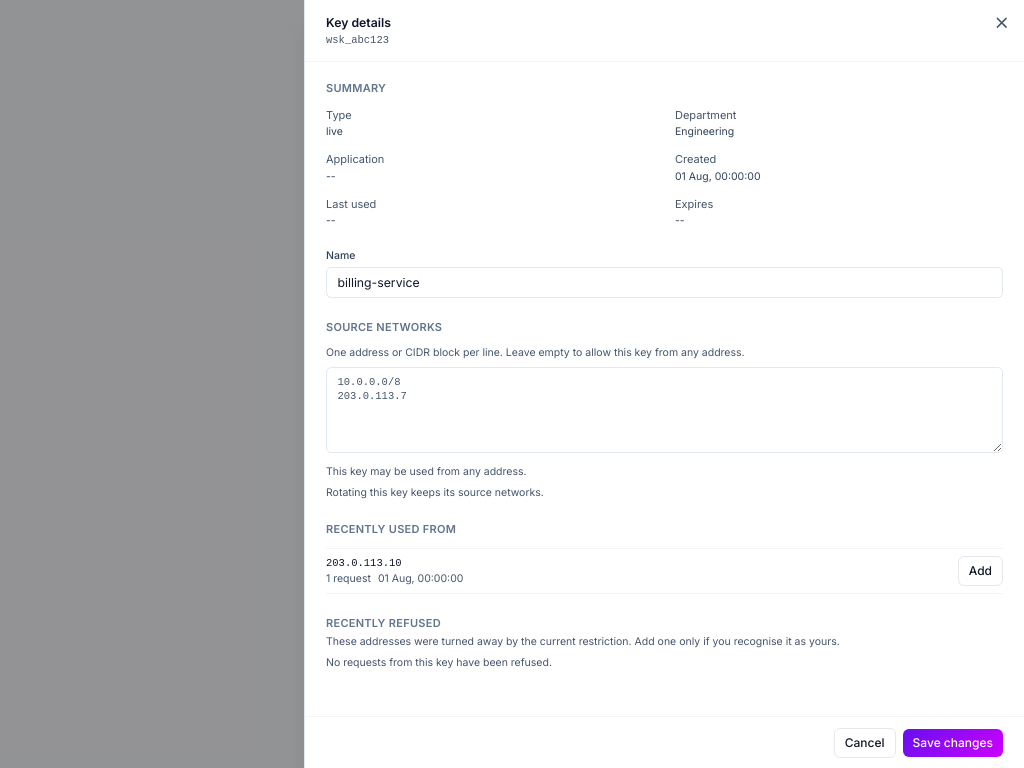
Test: KeyDetailDrawer address panels › adds an observed address as the single address, not the network
The width and height of the screenshot is (1024, 768).
Expected: the text "203.0.113.10" is shown, [326,557,402,569]
Click the button "Add".
click(980, 571)  # box [958,556,1003,586]
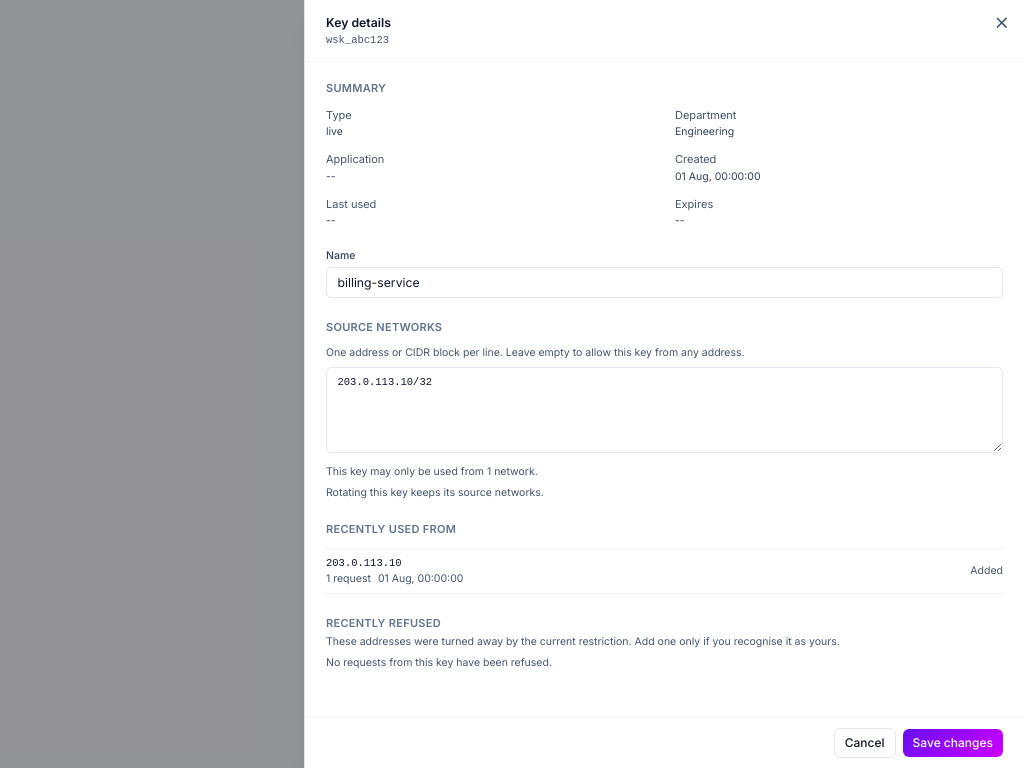
Expected: the text box named "Source networks" holds "203.0.113.10/32", [326,367,1003,453]
